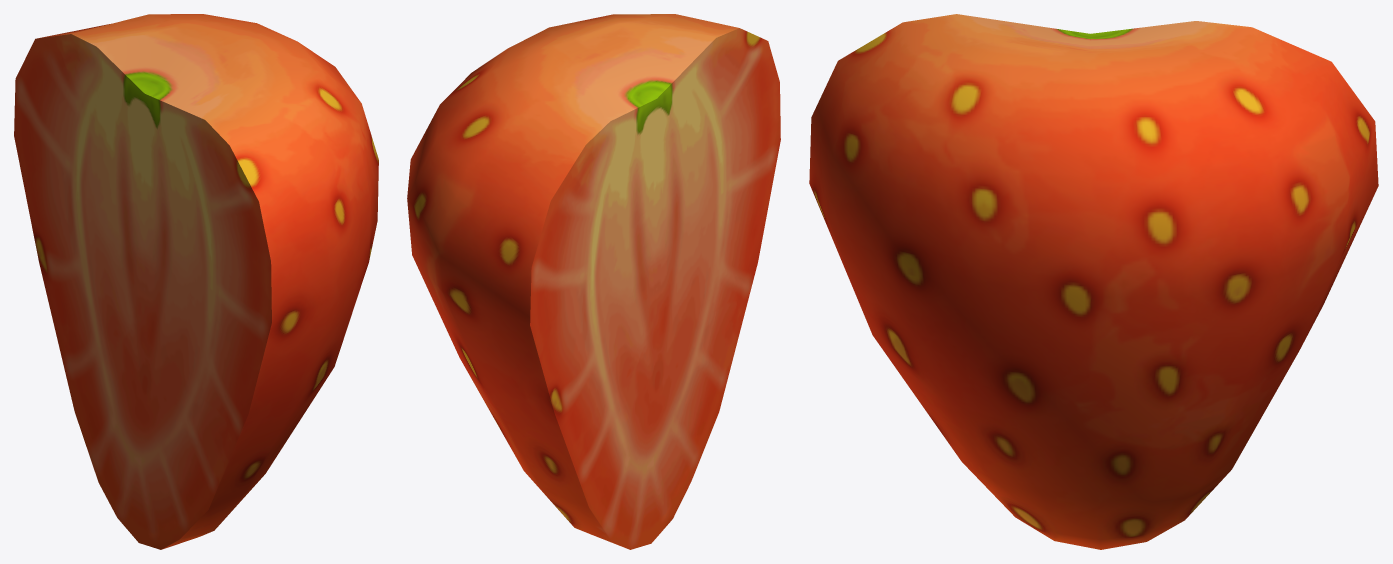
Rendered from SM_StrawberryCutB.fbx.
The picture shows the model from 3 angles, left to right: view 1: azimuth 30°, elevation 25°; view 2: azimuth 150°, elevation 25°; view 3: azimuth 270°, elevation 25°; orthographic projection. The views are drawn at different scales.
Visible parts, largest first — view 1: SM_StrawberryCutB; view 2: SM_StrawberryCutB; view 3: SM_StrawberryCutB.
Boxes of the visible parts, bbox=[...] form: SM_StrawberryCutB: bbox=[14, 14, 378, 549]; SM_StrawberryCutB: bbox=[407, 14, 780, 549]; SM_StrawberryCutB: bbox=[809, 14, 1378, 549].
Size of the model in its own units: 3.48 by 7.57 by 7.33.
